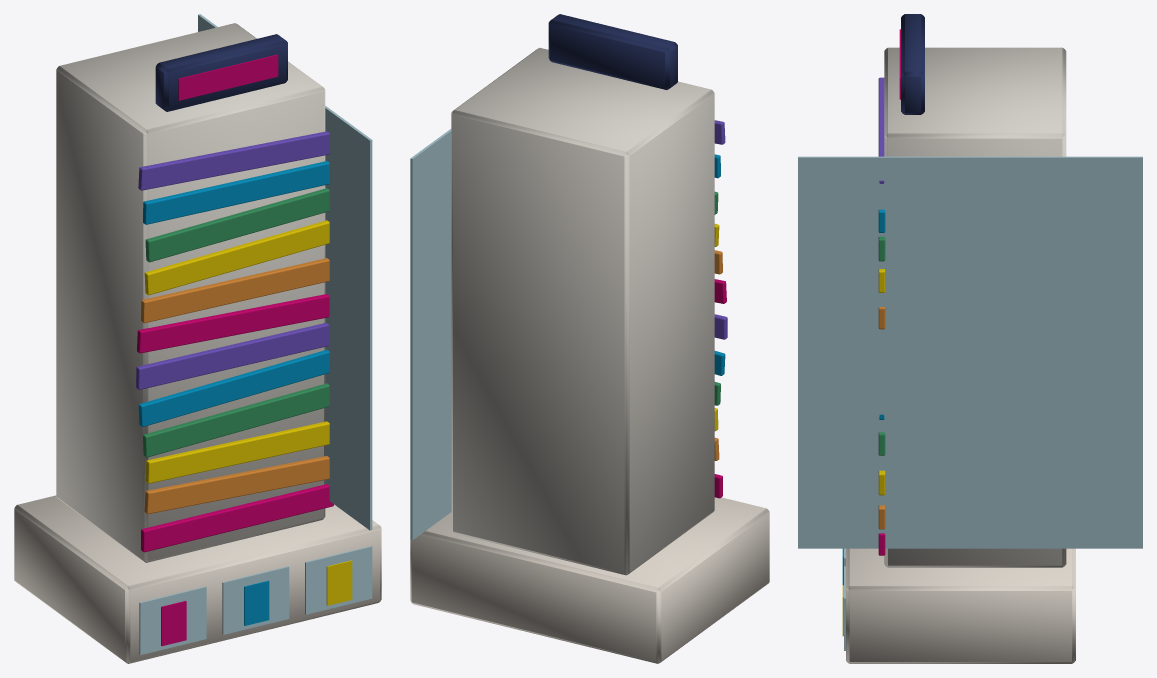
The picture shows the model from 3 angles, left to right: view 1: azimuth 30°, elevation 25°; view 2: azimuth 150°, elevation 25°; view 3: azimuth 270°, elevation 25°; orthographic projection. The views are drawn at different scales.
Parts seen in each view (by area): view 1: lm_11; view 2: lm_11; view 3: lm_11.
Part boxes in pixels (bbox=[...]): lm_11: bbox=[14, 14, 381, 663]; lm_11: bbox=[410, 14, 769, 663]; lm_11: bbox=[798, 14, 1142, 663].
Bounding box in the file's own units: 0.62 × 1.29 × 0.72.
